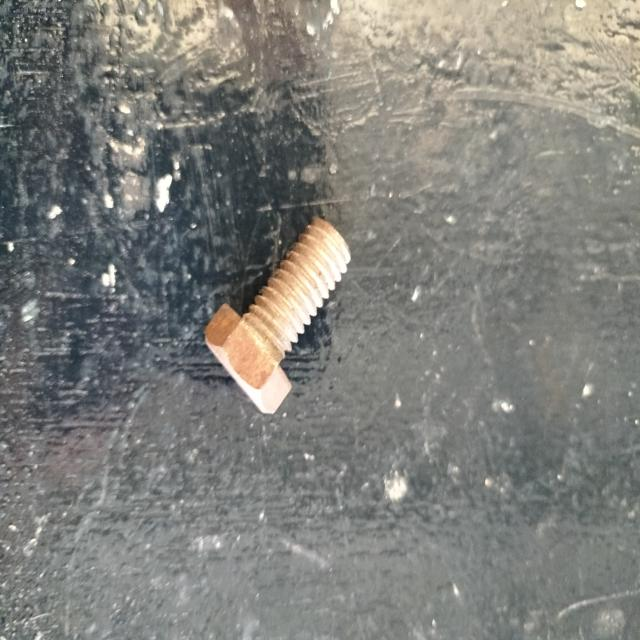bolt: (205, 216, 349, 413)
